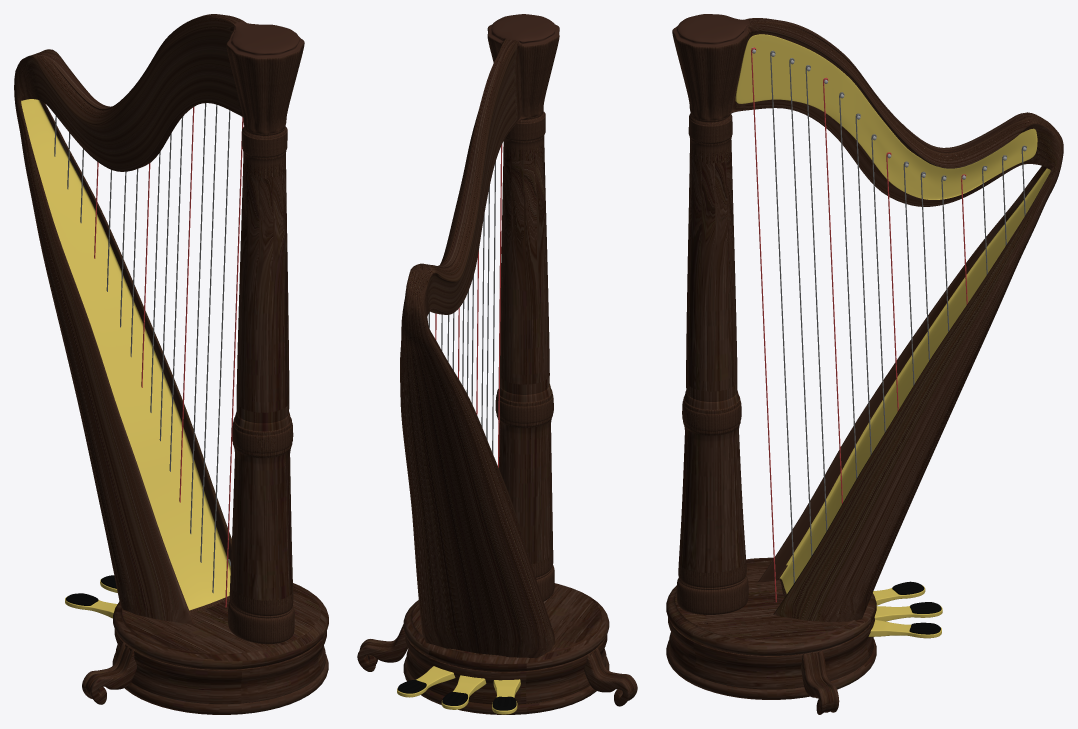
File: harp.glb
3 views of the same model, side by side, from view 1: azimuth 30°, elevation 25°; view 2: azimuth 150°, elevation 25°; view 3: azimuth 270°, elevation 25° (orthographic). The views are drawn at different scales.
Parts seen in each view (by area): view 1: Harp; view 2: Harp; view 3: Harp.
Part boxes in pixels (x1,y1,x2,y2): Harp: (14,14,328,714); Harp: (357,14,637,714); Harp: (666,14,1063,714).
Bounding box in the file's own units: 1.18 × 2.83 × 1.59.
Materials: 10 (1 with a texture image).
